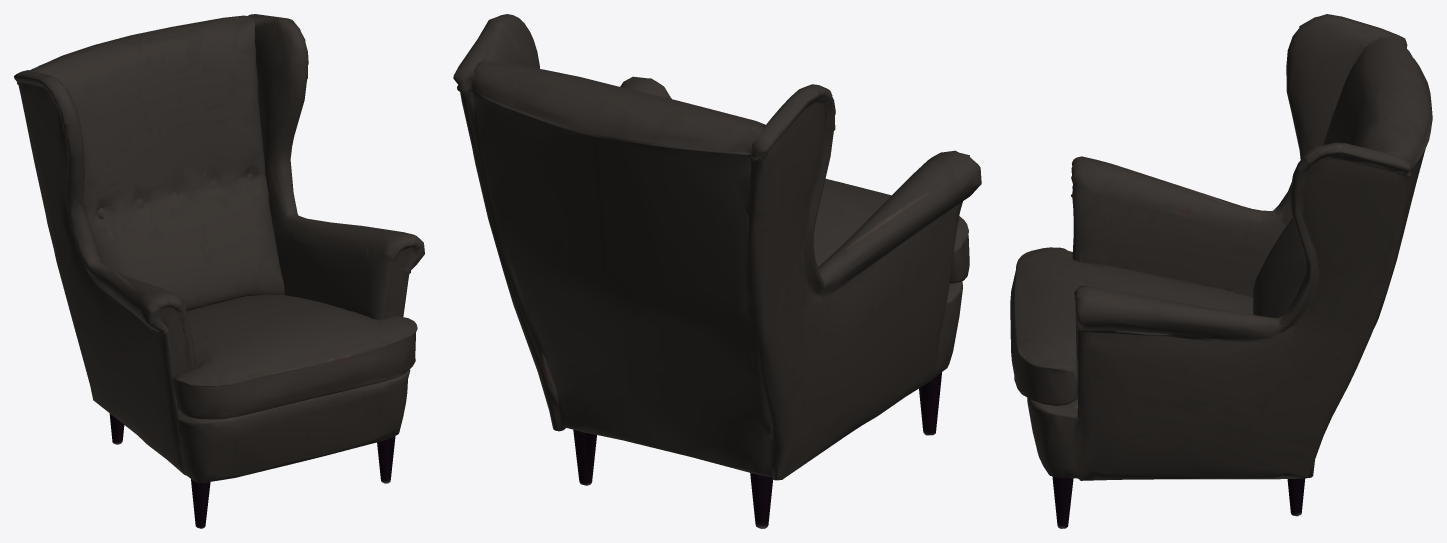
File: armchair_strandmon_40494641.glb
3 views of the same model, side by side, from view 1: azimuth 30°, elevation 25°; view 2: azimuth 150°, elevation 25°; view 3: azimuth 270°, elevation 25° (orthographic). The views are drawn at different scales.
Visible parts, largest first — view 1: ProcessedMeshNode; view 2: ProcessedMeshNode; view 3: ProcessedMeshNode.
Part boxes in pixels (left/top/right/bottom): ProcessedMeshNode: left=14, top=14, right=424, bottom=528; ProcessedMeshNode: left=453, top=14, right=981, bottom=528; ProcessedMeshNode: left=1010, top=14, right=1432, bottom=528.
Size of the model in its own units: 0.8094 by 1.01 by 0.973.
1 material, 1 textured.
